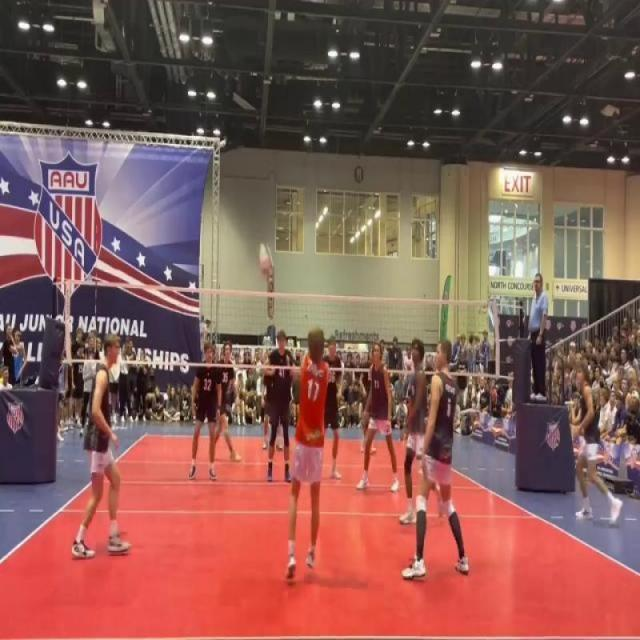volleyball: (255, 240, 274, 275)
